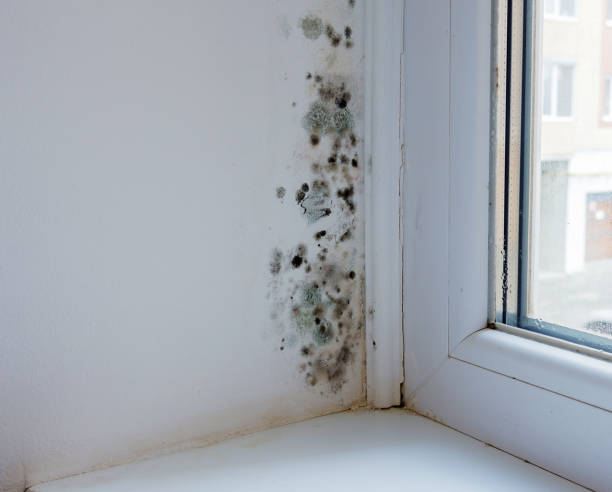schimmel: (273, 150, 365, 239), (301, 270, 360, 396), (297, 83, 356, 147), (283, 19, 359, 58), (275, 242, 309, 268)
